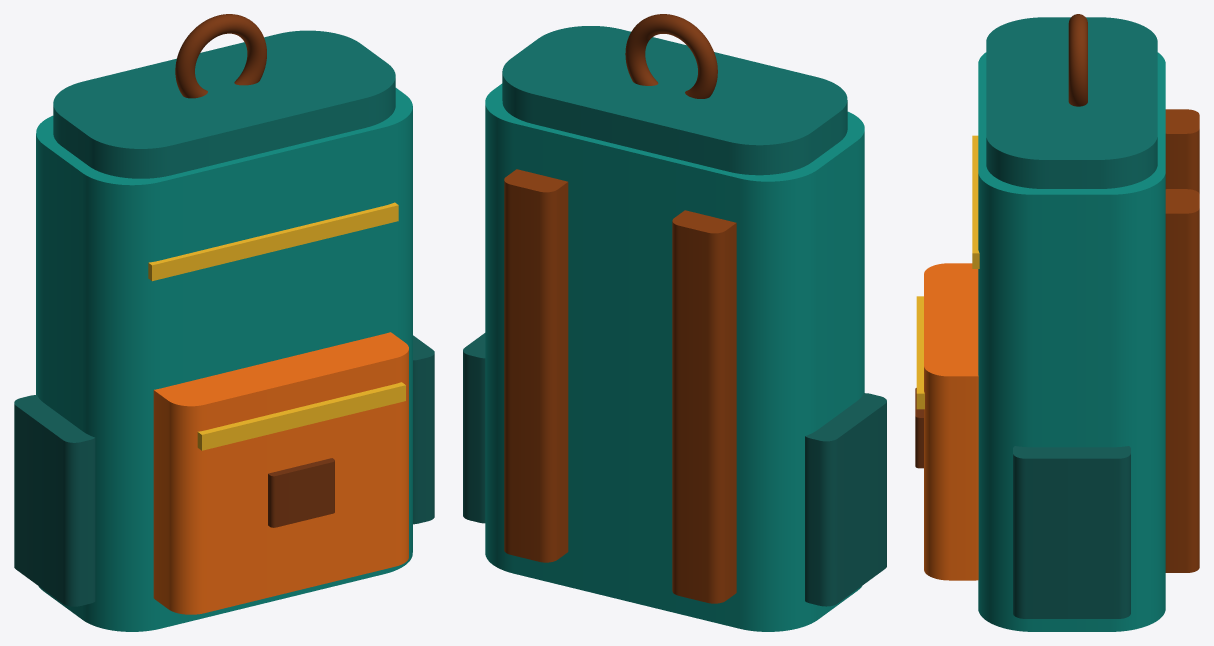
Rendered from backpack.glb.
3 views of the same model, side by side, from view 1: azimuth 30°, elevation 25°; view 2: azimuth 150°, elevation 25°; view 3: azimuth 270°, elevation 25° (orthographic). The views are drawn at different scales.
Visible parts, largest first — view 1: pack_main, front_pocket, pack_top, side_p_L, zip_top, zip_front, side_p_R, patch, carry_loop; view 2: pack_main, pack_top, strap_R, strap_L, side_p_L, side_p_R, carry_loop; view 3: pack_main, pack_top, side_p_R, front_pocket, strap_R, strap_L, carry_loop, zip_top, zip_front, patch.
Boxes of the visible parts, x1,y1,x2,y2 form: pack_main: (36,88,412,631); front_pocket: (153,332,408,614); pack_top: (53,30,395,178); side_p_L: (14,395,95,606); zip_top: (148,202,398,281); zip_front: (197,382,405,450); side_p_R: (413,335,434,524); patch: (268,458,334,527); carry_loop: (175,14,266,98); pack_main: (485,83,864,631); pack_top: (502,26,847,175); strap_R: (504,169,568,562); strap_L: (672,210,736,603); side_p_L: (805,393,886,606); side_p_R: (463,333,485,523); carry_loop: (625,14,717,98); pack_main: (978,52,1165,631); pack_top: (986,17,1157,188); side_p_R: (1013,446,1130,618); front_pocket: (924,263,978,580); strap_R: (1165,189,1199,572); strap_L: (1165,109,1199,193); carry_loop: (1068,14,1087,106); zip_top: (972,135,979,268); zip_front: (916,296,924,409); patch: (915,388,923,468).
Size of the model in its own units: 0.39 by 0.552 by 0.265.
